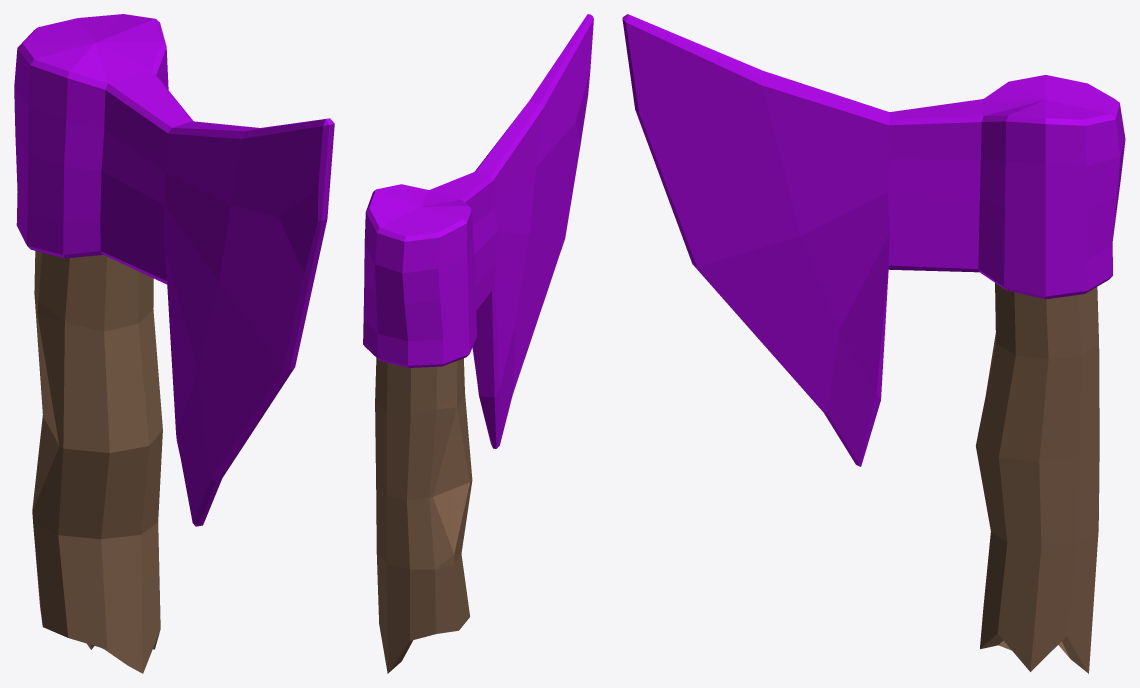
The model's file is Axe_02_Destroyed_Purple.fbx.
The picture shows the model from 3 angles, left to right: view 1: azimuth 30°, elevation 25°; view 2: azimuth 150°, elevation 25°; view 3: azimuth 270°, elevation 25°; orthographic projection. The views are drawn at different scales.
Visible parts, largest first — view 1: Axe_02_Destroyed_Purple; view 2: Axe_02_Destroyed_Purple; view 3: Axe_02_Destroyed_Purple.
Part boxes in pixels (bbox=[...]): Axe_02_Destroyed_Purple: bbox=[14, 14, 334, 673]; Axe_02_Destroyed_Purple: bbox=[363, 14, 593, 673]; Axe_02_Destroyed_Purple: bbox=[622, 14, 1125, 673].
Bounding box in the file's own units: 13.94 × 70.65 × 49.54.
